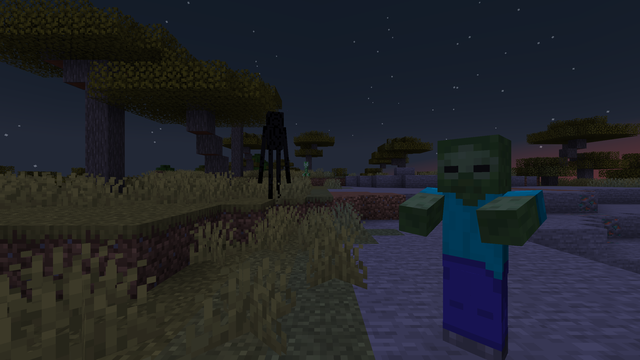creepers: (303, 161, 308, 172)
endermens: (263, 108, 284, 198)
zombies: (430, 141, 530, 356)
